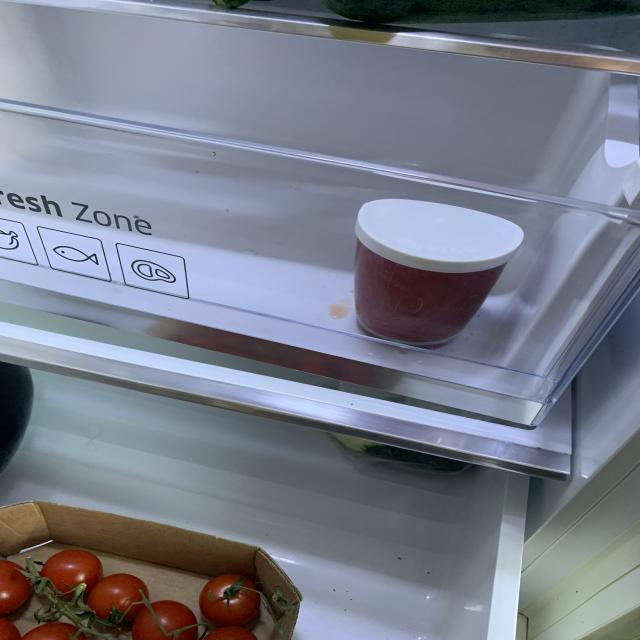aubergine: (0, 356, 38, 472)
cherry_tomato: (0, 544, 262, 639)
courgettes: (322, 0, 635, 27), (328, 426, 468, 468)
tomato_sauce: (353, 232, 504, 349)
